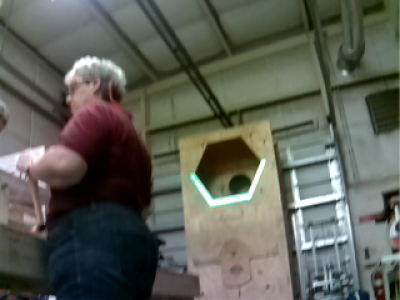target: (189, 157, 266, 206)
